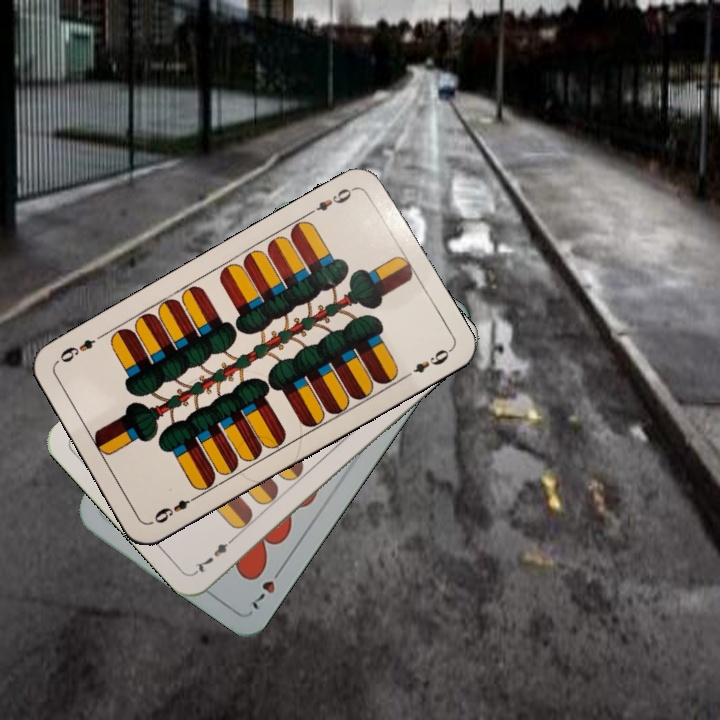E7: (191, 531, 239, 576)
E9: (304, 183, 359, 218), (149, 491, 202, 526)
H7: (248, 561, 287, 613)
